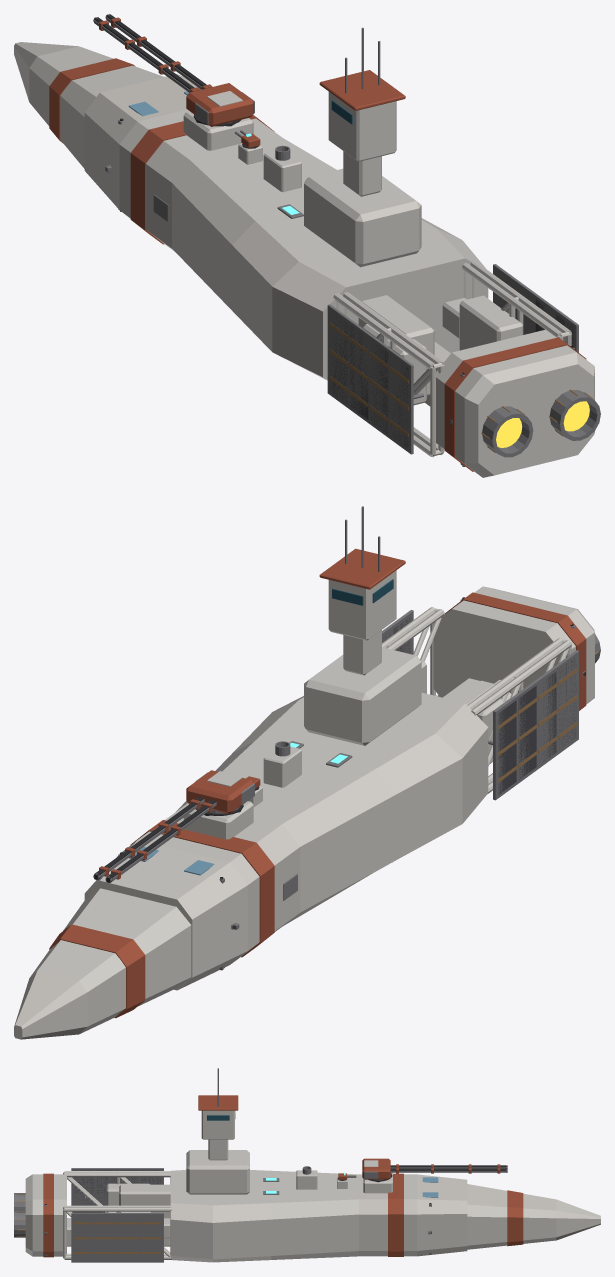
The model's file is mars_starter_escort.glb.
The picture shows the model from 3 angles, top to bottom: view 1: azimuth 30°, elevation 25°; view 2: azimuth 150°, elevation 25°; view 3: azimuth 270°, elevation 25°; orthographic projection. The views are drawn at different scales.
Visible parts, largest first — view 1: FleetHull, mesh_turret_gun_1, mesh_recoil_gun_1; view 2: FleetHull, mesh_recoil_gun_1, mesh_turret_gun_1; view 3: FleetHull, mesh_recoil_gun_1, mesh_turret_gun_1.
Boxes of the visible parts, bbox=[...] form: FleetHull: bbox=[14, 27, 600, 477]; mesh_turret_gun_1: bbox=[186, 83, 254, 126]; mesh_recoil_gun_1: bbox=[93, 14, 212, 92]; FleetHull: bbox=[14, 506, 600, 1039]; mesh_recoil_gun_1: bbox=[93, 797, 216, 882]; mesh_turret_gun_1: bbox=[186, 770, 254, 813]; FleetHull: bbox=[14, 1068, 600, 1262]; mesh_recoil_gun_1: bbox=[390, 1164, 507, 1173]; mesh_turret_gun_1: bbox=[362, 1158, 390, 1180].
Bounding box in the file's own units: 46 × 75.96 × 221.
